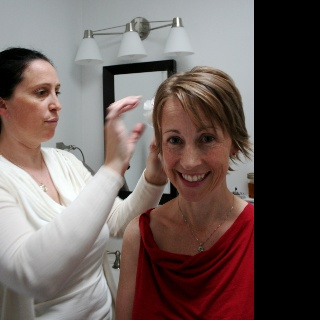without_mask: (158, 93, 241, 203), (0, 59, 62, 144)
